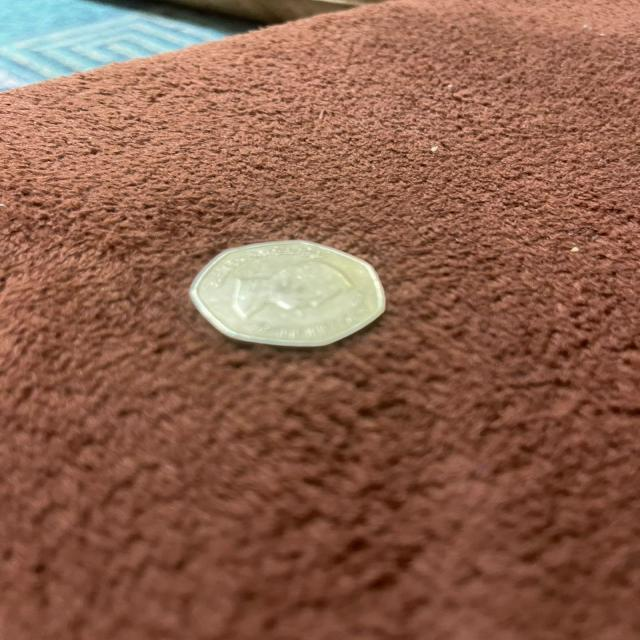25-coins: (191, 239, 389, 349)
